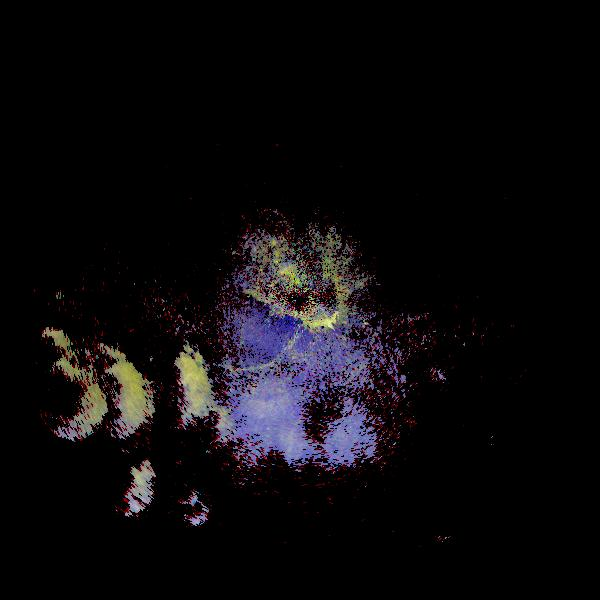roost: (25, 310, 181, 466), (131, 334, 233, 436)
